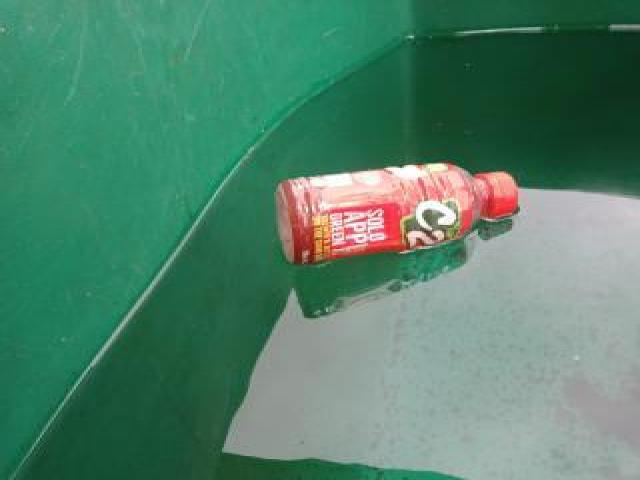Bottle: (264, 156, 527, 270)
